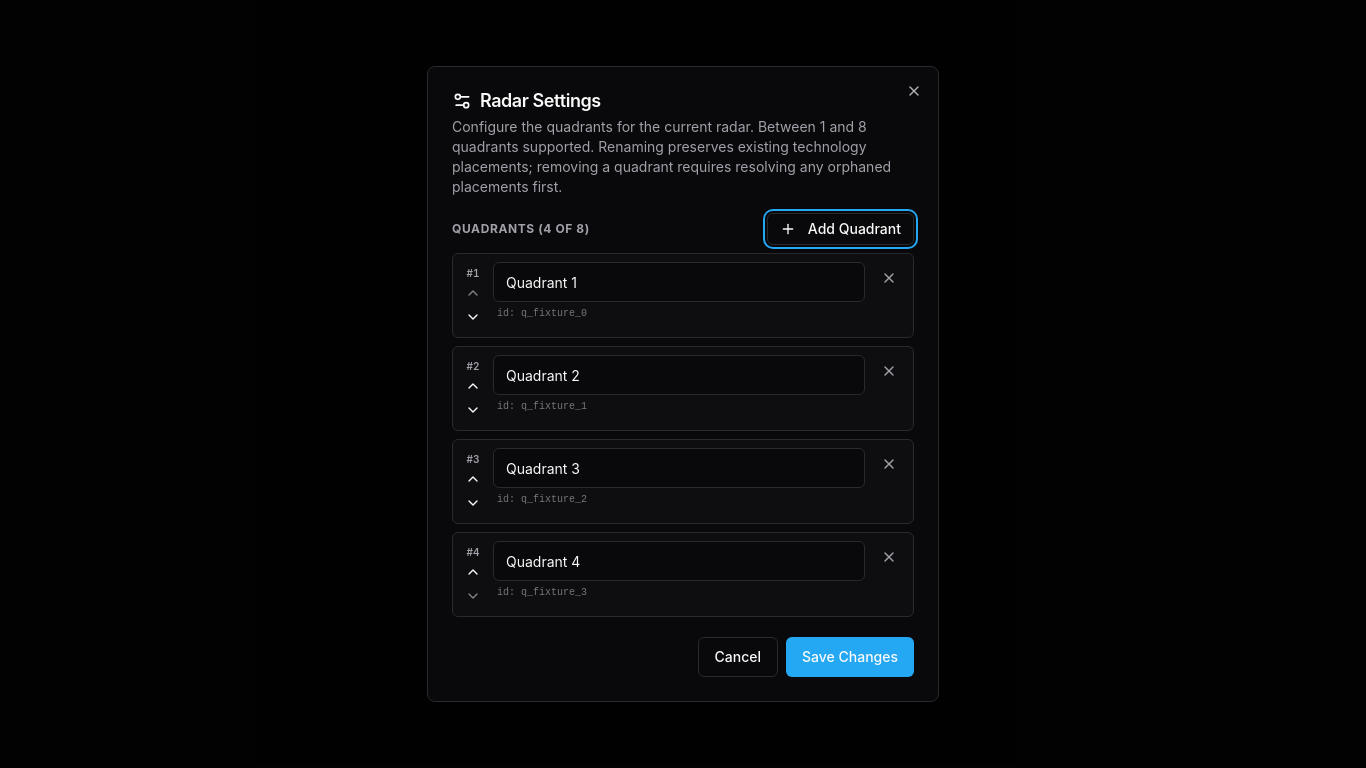
Test: SettingsDialog › row management › removes a row when the × button is clicked
Click the button named "remove quadrant 2" at (889, 371), box [873,355,905,387]
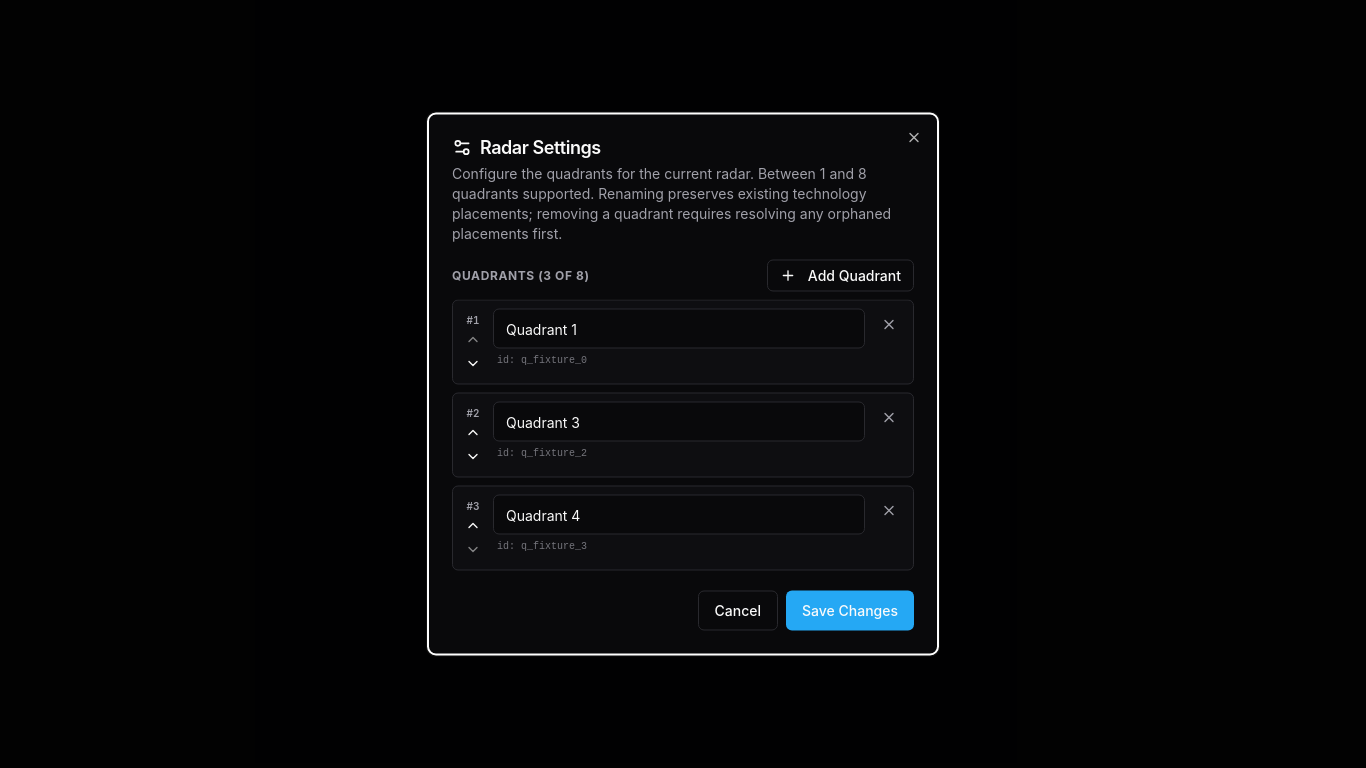
Expected: the field showing "Quadrant 2" is not shown
Expected: the text "Quadrants (3 of 8)" is shown, [452,268,590,284]
